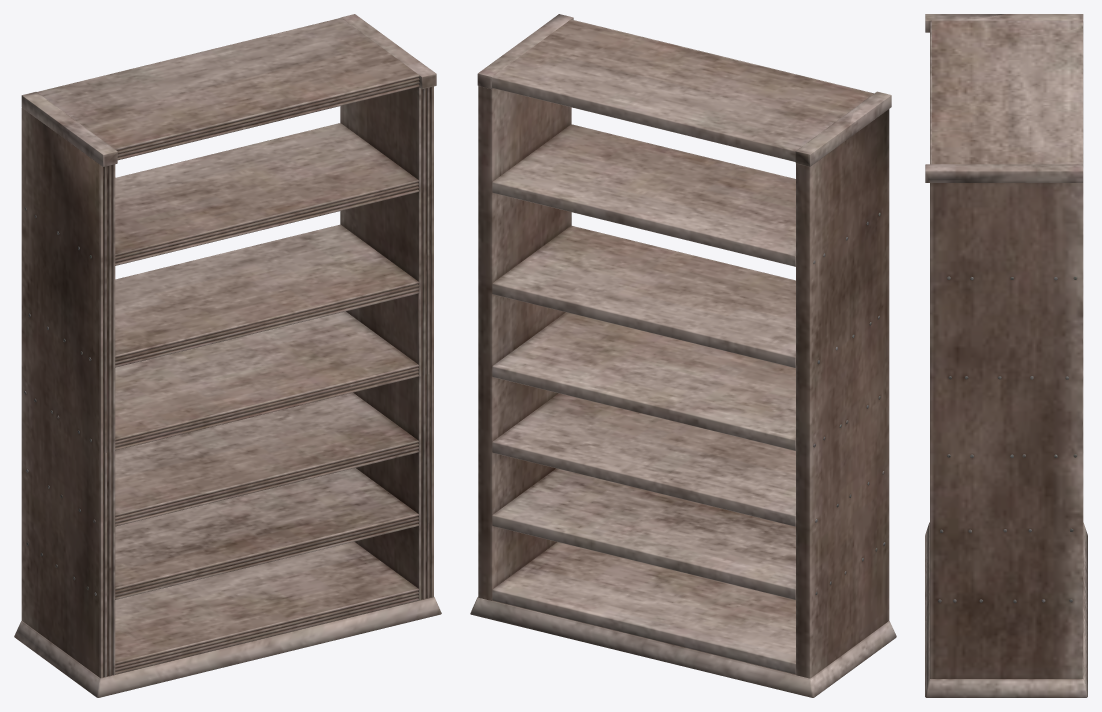
The model's file is wooden_bookshelf_worn.glb.
3 views of the same model, side by side, from view 1: azimuth 30°, elevation 25°; view 2: azimuth 150°, elevation 25°; view 3: azimuth 270°, elevation 25° (orthographic). The views are drawn at different scales.
Parts seen in each view (by area): view 1: wooden_bookshelf_worn; view 2: wooden_bookshelf_worn; view 3: wooden_bookshelf_worn.
Part boxes in pixels (left/top/right/bottom): wooden_bookshelf_worn: left=14, top=14, right=441, bottom=697; wooden_bookshelf_worn: left=470, top=14, right=896, bottom=697; wooden_bookshelf_worn: left=925, top=14, right=1087, bottom=697.
Bounding box in the file's own units: 1.37 × 2.06 × 0.5814.
1 material, 1 textured.
